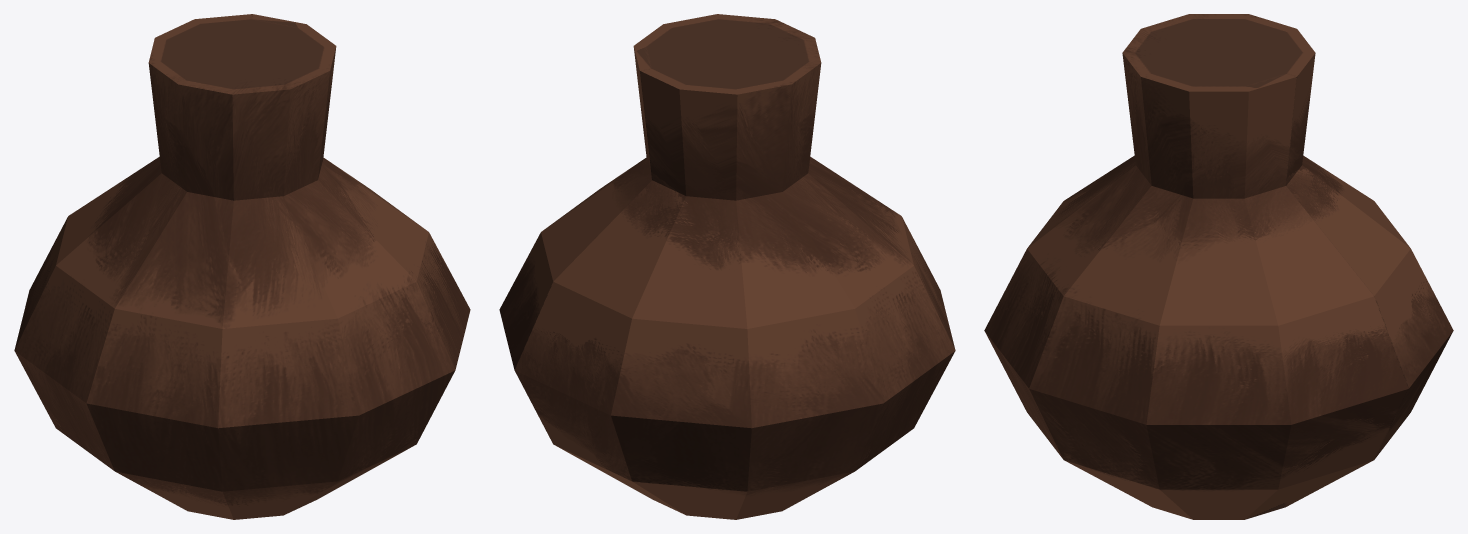
File: vase2.fbx
3 renders of one model, left to right at view 1: azimuth 30°, elevation 25°; view 2: azimuth 150°, elevation 25°; view 3: azimuth 270°, elevation 25°, orthographic.
Parts seen in each view (by area): view 1: Vase2; view 2: Vase2; view 3: Vase2.
Boxes of the visible parts, x1,y1,x2,y2 form: Vase2: (14,14,470,519); Vase2: (499,14,955,519); Vase2: (984,14,1453,519).
Bounding box in the file's own units: 2.12 × 2.27 × 2.22.
